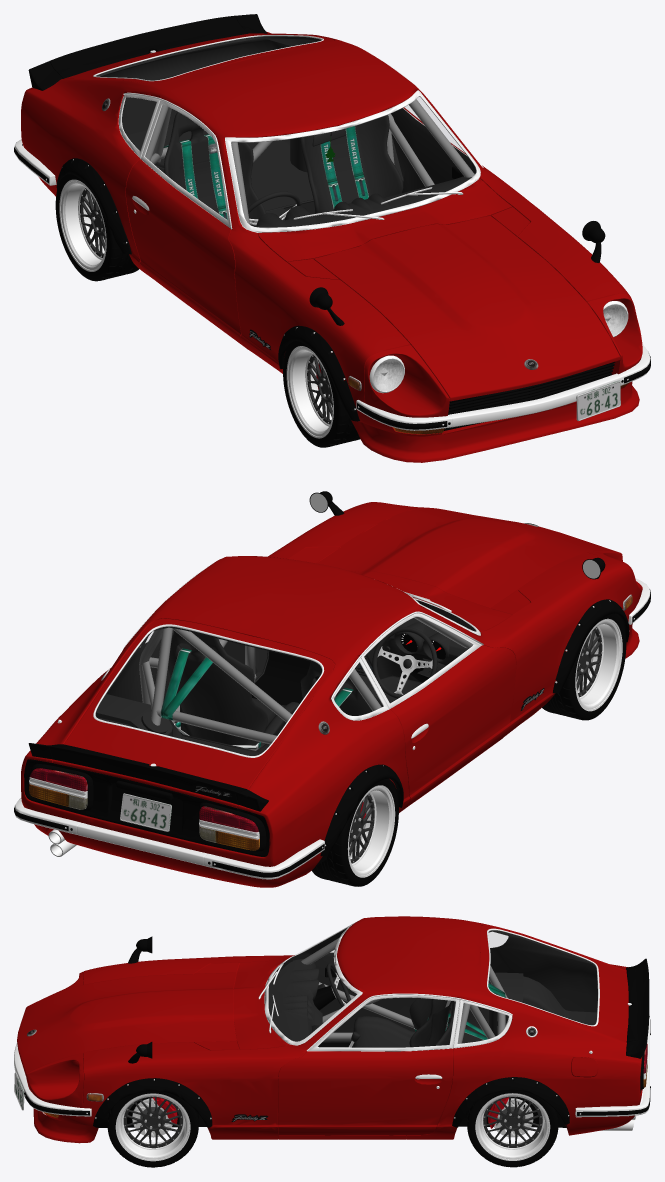
The model's file is fairlady-z.glb.
3 renders of one model, top to bottom at view 1: azimuth 30°, elevation 25°; view 2: azimuth 150°, elevation 25°; view 3: azimuth 270°, elevation 25°, orthographic. The views are drawn at different scales.
Visible parts, largest first — view 1: Object_16, Object_28, Object_22, Object_19, Object_4, Object_24, Object_7, Object_3, Object_15; view 2: Object_16, Object_22, Object_28, Object_19, Object_4, Object_24, Object_21, Object_7, Object_15; view 3: Object_16, Object_28, Object_22, Object_19, Object_4, Object_24, Object_9.
Part boxes in pixels (bbox=[...]): Object_16: bbox=[21, 31, 642, 462]; Object_28: bbox=[96, 36, 476, 227]; Object_22: bbox=[14, 35, 650, 438]; Object_19: bbox=[14, 14, 650, 430]; Object_4: bbox=[79, 99, 611, 423]; Object_24: bbox=[55, 174, 360, 447]; Object_7: bbox=[163, 126, 368, 219]; Object_3: bbox=[373, 304, 626, 391]; Object_15: bbox=[576, 380, 620, 420]; Object_16: bbox=[21, 502, 642, 887]; Object_22: bbox=[14, 493, 650, 879]; Object_28: bbox=[95, 600, 476, 755]; Object_19: bbox=[14, 491, 650, 877]; Object_4: bbox=[139, 617, 602, 862]; Object_24: bbox=[311, 613, 626, 886]; Object_21: bbox=[29, 594, 632, 850]; Object_7: bbox=[160, 648, 353, 750]; Object_15: bbox=[120, 793, 171, 831]; Object_16: bbox=[17, 916, 642, 1143]; Object_28: bbox=[268, 928, 597, 1051]; Object_22: bbox=[14, 920, 650, 1161]; Object_19: bbox=[24, 936, 650, 1127]; Object_4: bbox=[124, 938, 541, 1147]; Object_24: bbox=[107, 1090, 558, 1167]; Object_9: bbox=[99, 1097, 567, 1128].
Bounding box in the file's own units: 1.19 × 0.7941 × 2.8.
19 materials, 18 textured.
